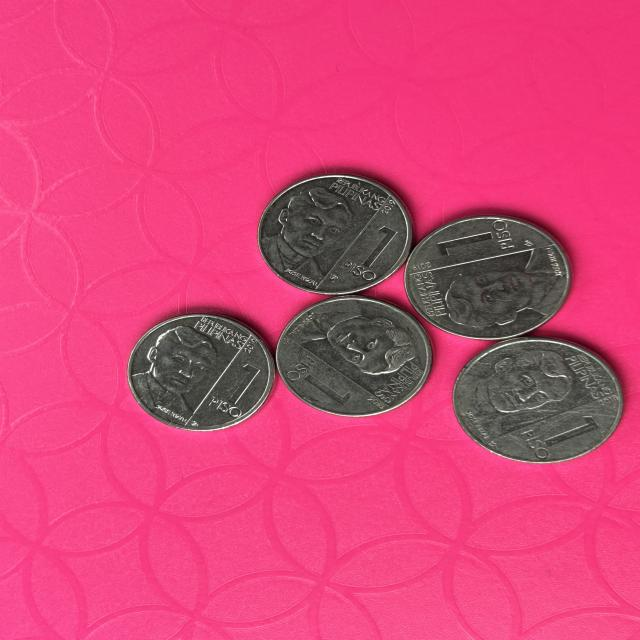1_New_Front: (283, 343, 366, 407), (209, 348, 276, 415), (518, 413, 610, 458), (345, 217, 405, 280), (434, 223, 532, 257)
